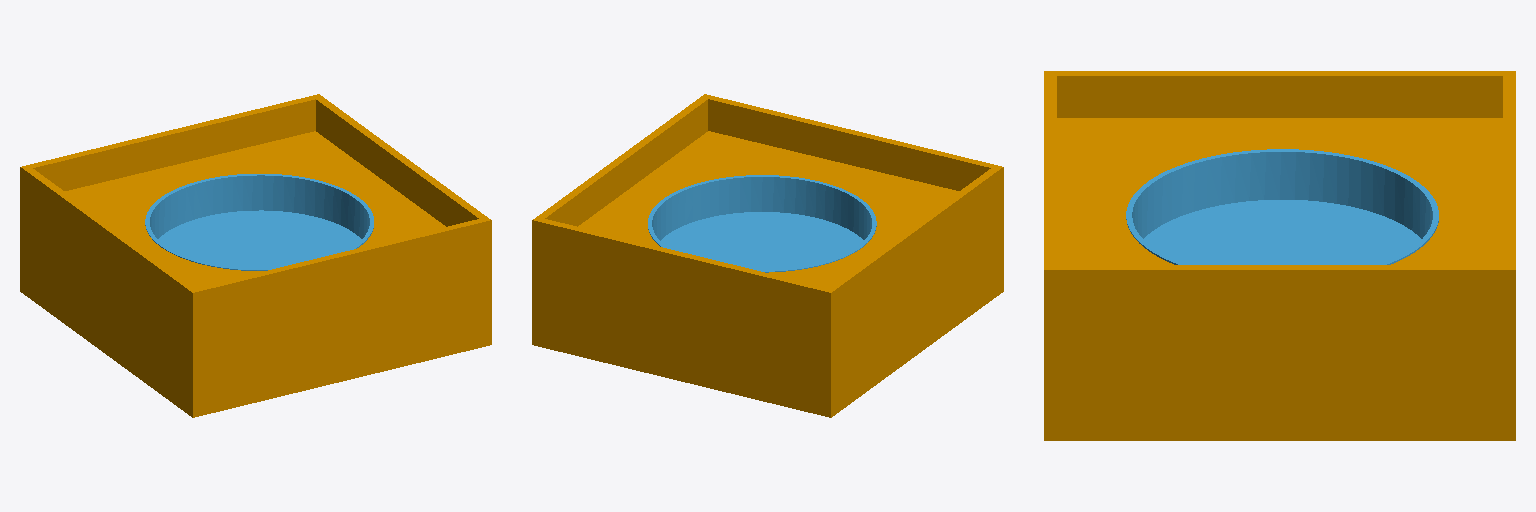
URDF robot description (dial_cavity):
<?xml version="1.0"?>
<robot name="dial_cavity">

  <link name="dial_cavity_out">
    <visual>
      <origin xyz="0.0 0.0 0.0"/>
      <geometry>
        <mesh filename="../../meshes/objects/dial_cavity_out.obj" scale="0.001 0.001 0.001"/>
      </geometry>
    </visual>
  </link>
  <link name="dial_cavity_slot">
    <visual>
      <origin xyz="0.0 0.0 0.0"/>
      <geometry>
        <mesh filename="../../meshes/objects/dial_cavity_slot.obj" scale="0.001 0.001 0.001"/>
      </geometry>
    </visual>
  </link>
  <joint name="j1" type="fixed">
    <parent link="dial_cavity_out"/>
    <child link="dial_cavity_slot"/>
  </joint>
  
</robot>

--- Facts derived from the render (not from the file) ---
The picture shows the robot from 3 angles, left to right: view 1: azimuth 30°, elevation 25°; view 2: azimuth 150°, elevation 25°; view 3: azimuth 270°, elevation 25°; orthographic projection.
Model dial_cavity with 2 links and 1 joints (1 fixed), rooted at dial_cavity_out, posed all joints at 0.
Links seen in each view (by area): view 1: dial_cavity_out, dial_cavity_slot; view 2: dial_cavity_out, dial_cavity_slot; view 3: dial_cavity_out, dial_cavity_slot.
Boxes of the visible links, box(x1,y1,x2,y2) form: dial_cavity_out: box(20, 94, 491, 417); dial_cavity_slot: box(145, 174, 373, 270); dial_cavity_out: box(532, 94, 1003, 417); dial_cavity_slot: box(648, 175, 876, 272); dial_cavity_out: box(1044, 71, 1515, 440); dial_cavity_slot: box(1126, 149, 1438, 264).
Bounding box of the posed robot: 0.1 × 0.1 × 0.04 m (x, y, z).
Meshes: 2 distinct files referenced, 2 mesh visuals loaded (2 OBJ).